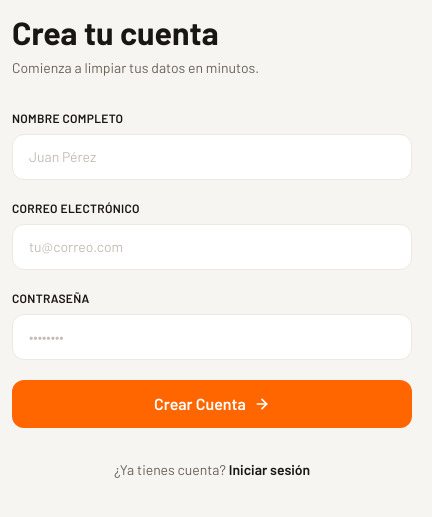
RegisterPage › shows validation error for short password
This screenshot has width=432, height=517.
Type "Juan" into the field labelled "Nombre completo" at coordinates (212, 157), box [12,134,412,180]
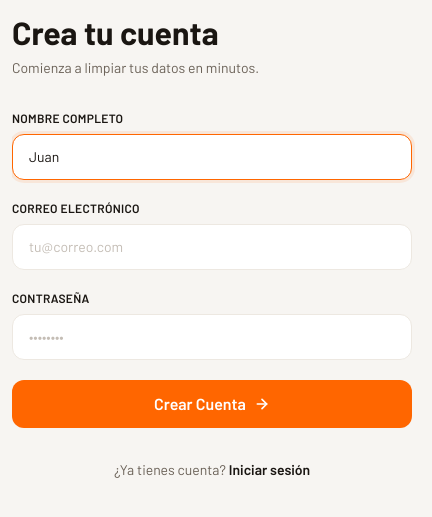
Type "juan@example.com" into the field labelled "Correo electrónico" at coordinates (212, 247), box [12,224,412,270]
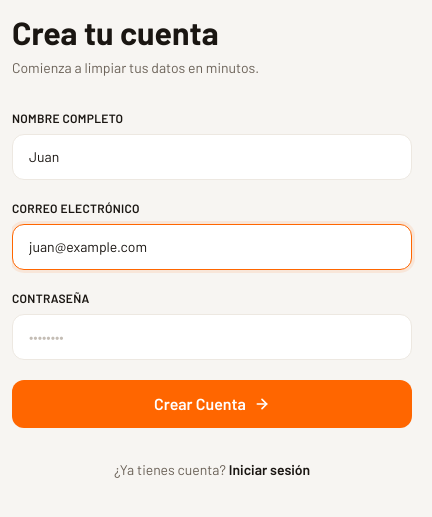
Type "1234567" into the password field labelled "Contraseña" at coordinates (212, 337), box [12,314,412,360]
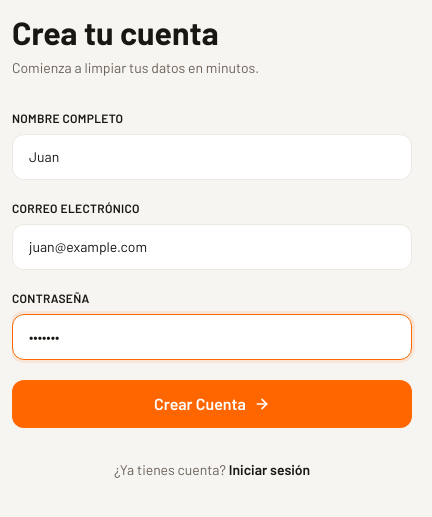
Click the button "Crear Cuenta" at coordinates (212, 404), box [12,380,412,428]
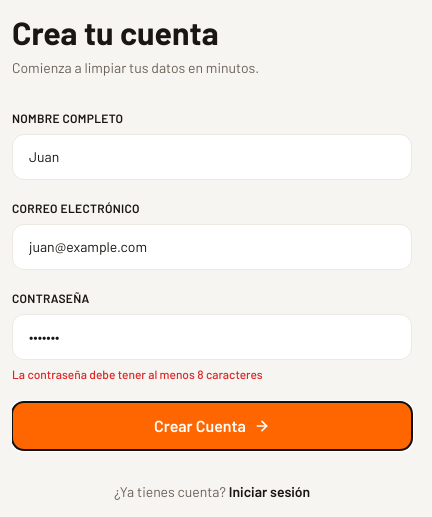
Check: the text "La contraseña debe tener al menos 8 caracteres" is shown, box [12,367,263,381]
